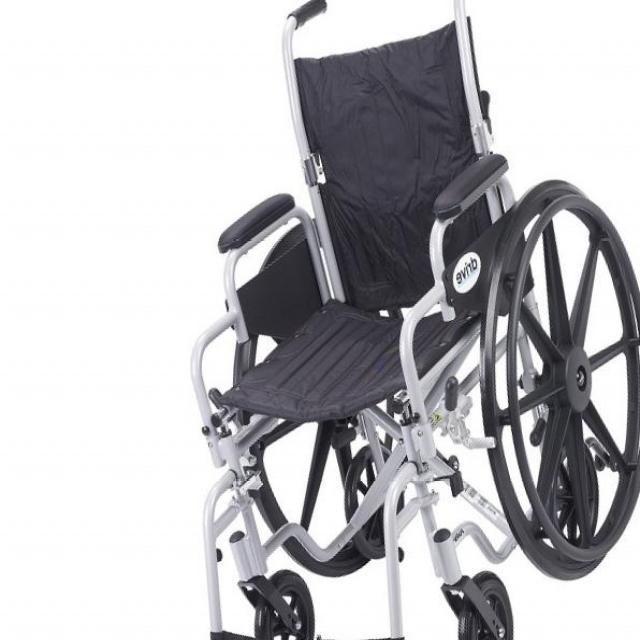wheelchair: (185, 1, 640, 640)
